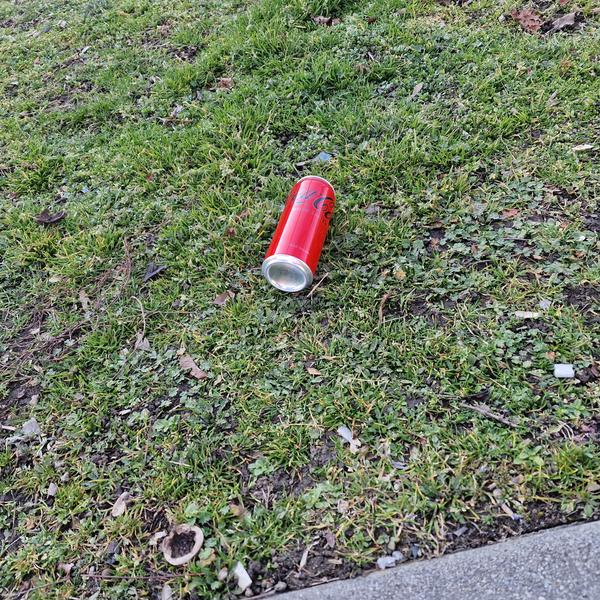can: (257, 168, 343, 299)
